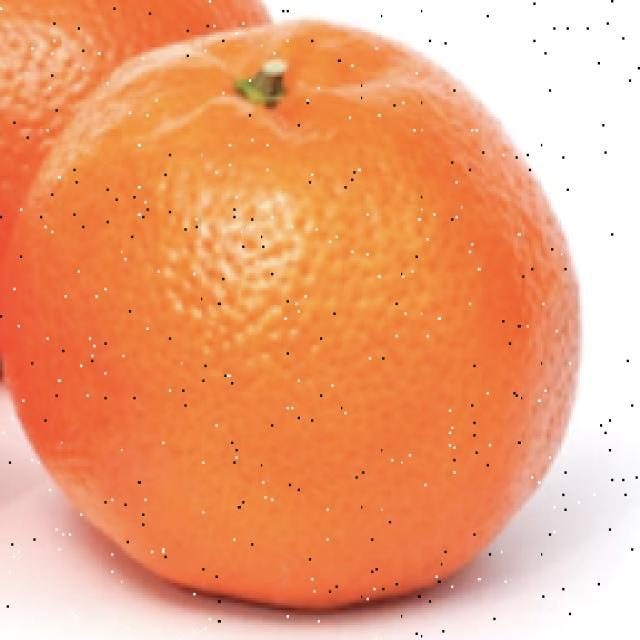Orange: (0, 17, 582, 611)
